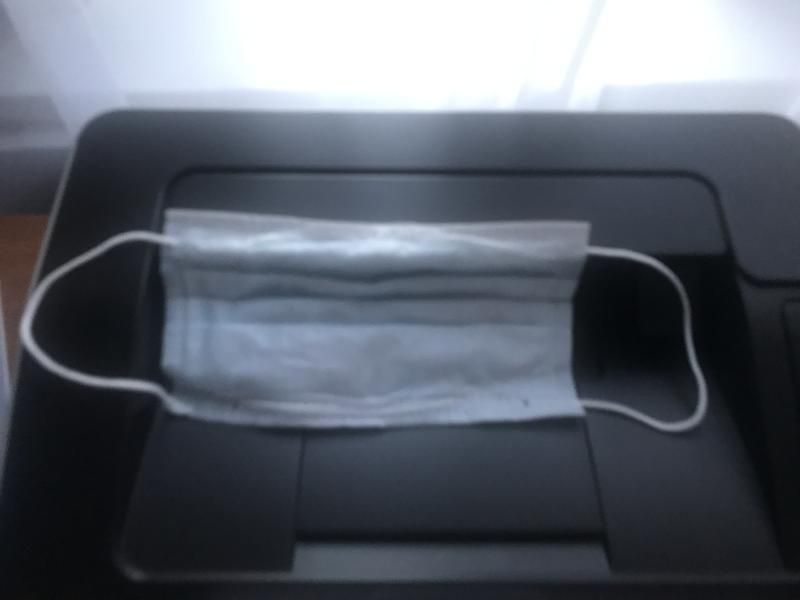medical_mask: (16, 208, 712, 434)
